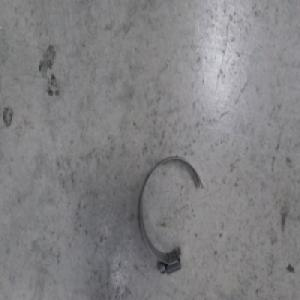AdjustableClamp: (137, 154, 203, 275)
